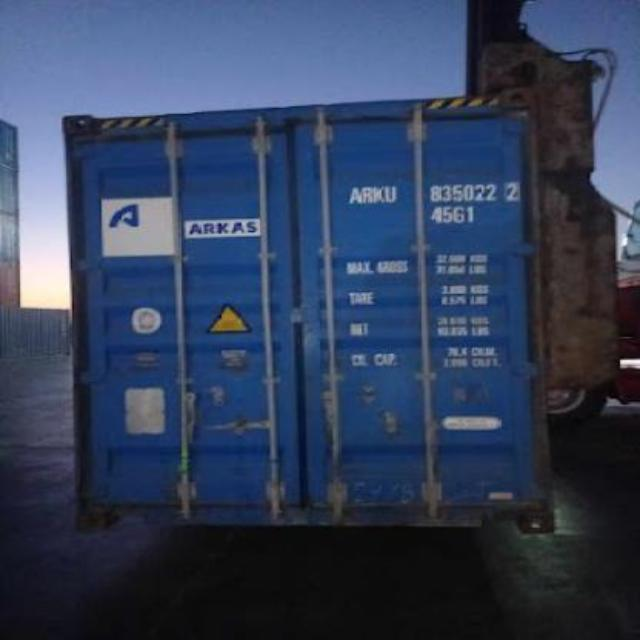0: (464, 183, 476, 201)
2: (508, 182, 520, 200), (486, 184, 499, 200), (476, 183, 486, 201)
3: (442, 184, 452, 200)
5: (452, 184, 464, 200)
8: (428, 185, 442, 201)
A: (348, 184, 362, 206)
K: (372, 182, 384, 205)
R: (362, 182, 374, 205)
U: (384, 182, 400, 204)
